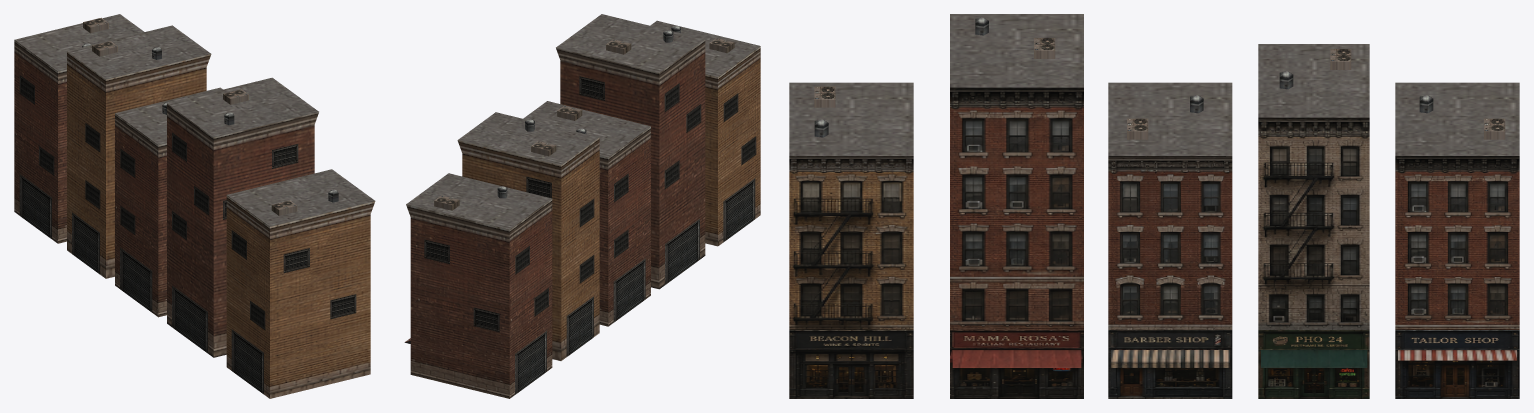
File: GenericCityBusinessesWithApartments2.glb
3 views of the same model, side by side, from view 1: azimuth 30°, elevation 25°; view 2: azimuth 150°, elevation 25°; view 3: azimuth 270°, elevation 25° (orthographic). The views are drawn at different scales.
Visible parts, largest first — view 1: CityBusiness5, CityBusiness4, CityBusiness2, CityBusiness3, CityBusiness1; view 2: CityBusiness3, CityBusiness4, CityBusiness2, CityBusiness1, CityBusiness5; view 3: CityBusiness4, CityBusiness2, CityBusiness3, CityBusiness5, CityBusiness1.
Boxes of the visible parts, box(x1,y1,x2,y2) form: CityBusiness5: box(226, 169, 375, 398); CityBusiness4: box(167, 77, 318, 357); CityBusiness2: box(67, 25, 211, 278); CityBusiness3: box(14, 14, 144, 243); CityBusiness1: box(115, 87, 222, 317); CityBusiness3: box(404, 173, 552, 398); CityBusiness4: box(556, 14, 705, 289); CityBusiness2: box(457, 112, 599, 360); CityBusiness1: box(523, 101, 650, 326); CityBusiness5: box(650, 20, 760, 246); CityBusiness4: box(950, 14, 1083, 398); CityBusiness2: box(1258, 44, 1369, 398); CityBusiness3: box(1395, 82, 1519, 398); CityBusiness5: box(789, 82, 913, 398); CityBusiness1: box(1108, 82, 1232, 398).
Bounding box in the file's own units: 3.21 × 6.53 × 13.09.
1 material, 1 textured.
